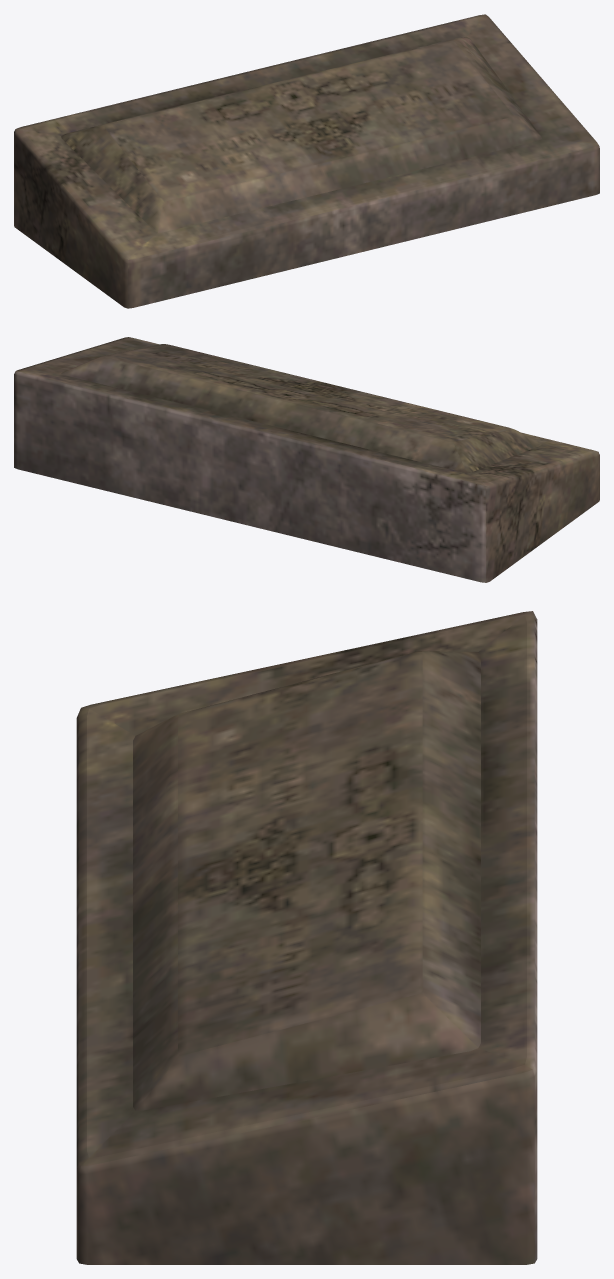
Rendered from SM_tombstone_01.fbx.
3 renders of one model, top to bottom at view 1: azimuth 30°, elevation 25°; view 2: azimuth 150°, elevation 25°; view 3: azimuth 270°, elevation 25°, orthographic. The views are drawn at different scales.
Visible parts, largest first — view 1: SM_tombstone_01; view 2: SM_tombstone_01; view 3: SM_tombstone_01.
Boxes of the visible parts, x1=… form: SM_tombstone_01: x1=14, y1=14, x2=599, y2=308; SM_tombstone_01: x1=14, y1=337, x2=599, y2=582; SM_tombstone_01: x1=76, y1=611, x2=537, y2=1264.
Size of the model in its own units: 80.55 by 17.08 by 33.82.
